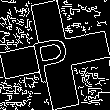P_N: (32, 27, 78, 83)
